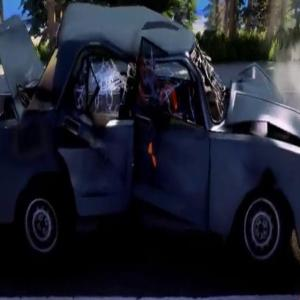fatal: (0, 0, 300, 271)
